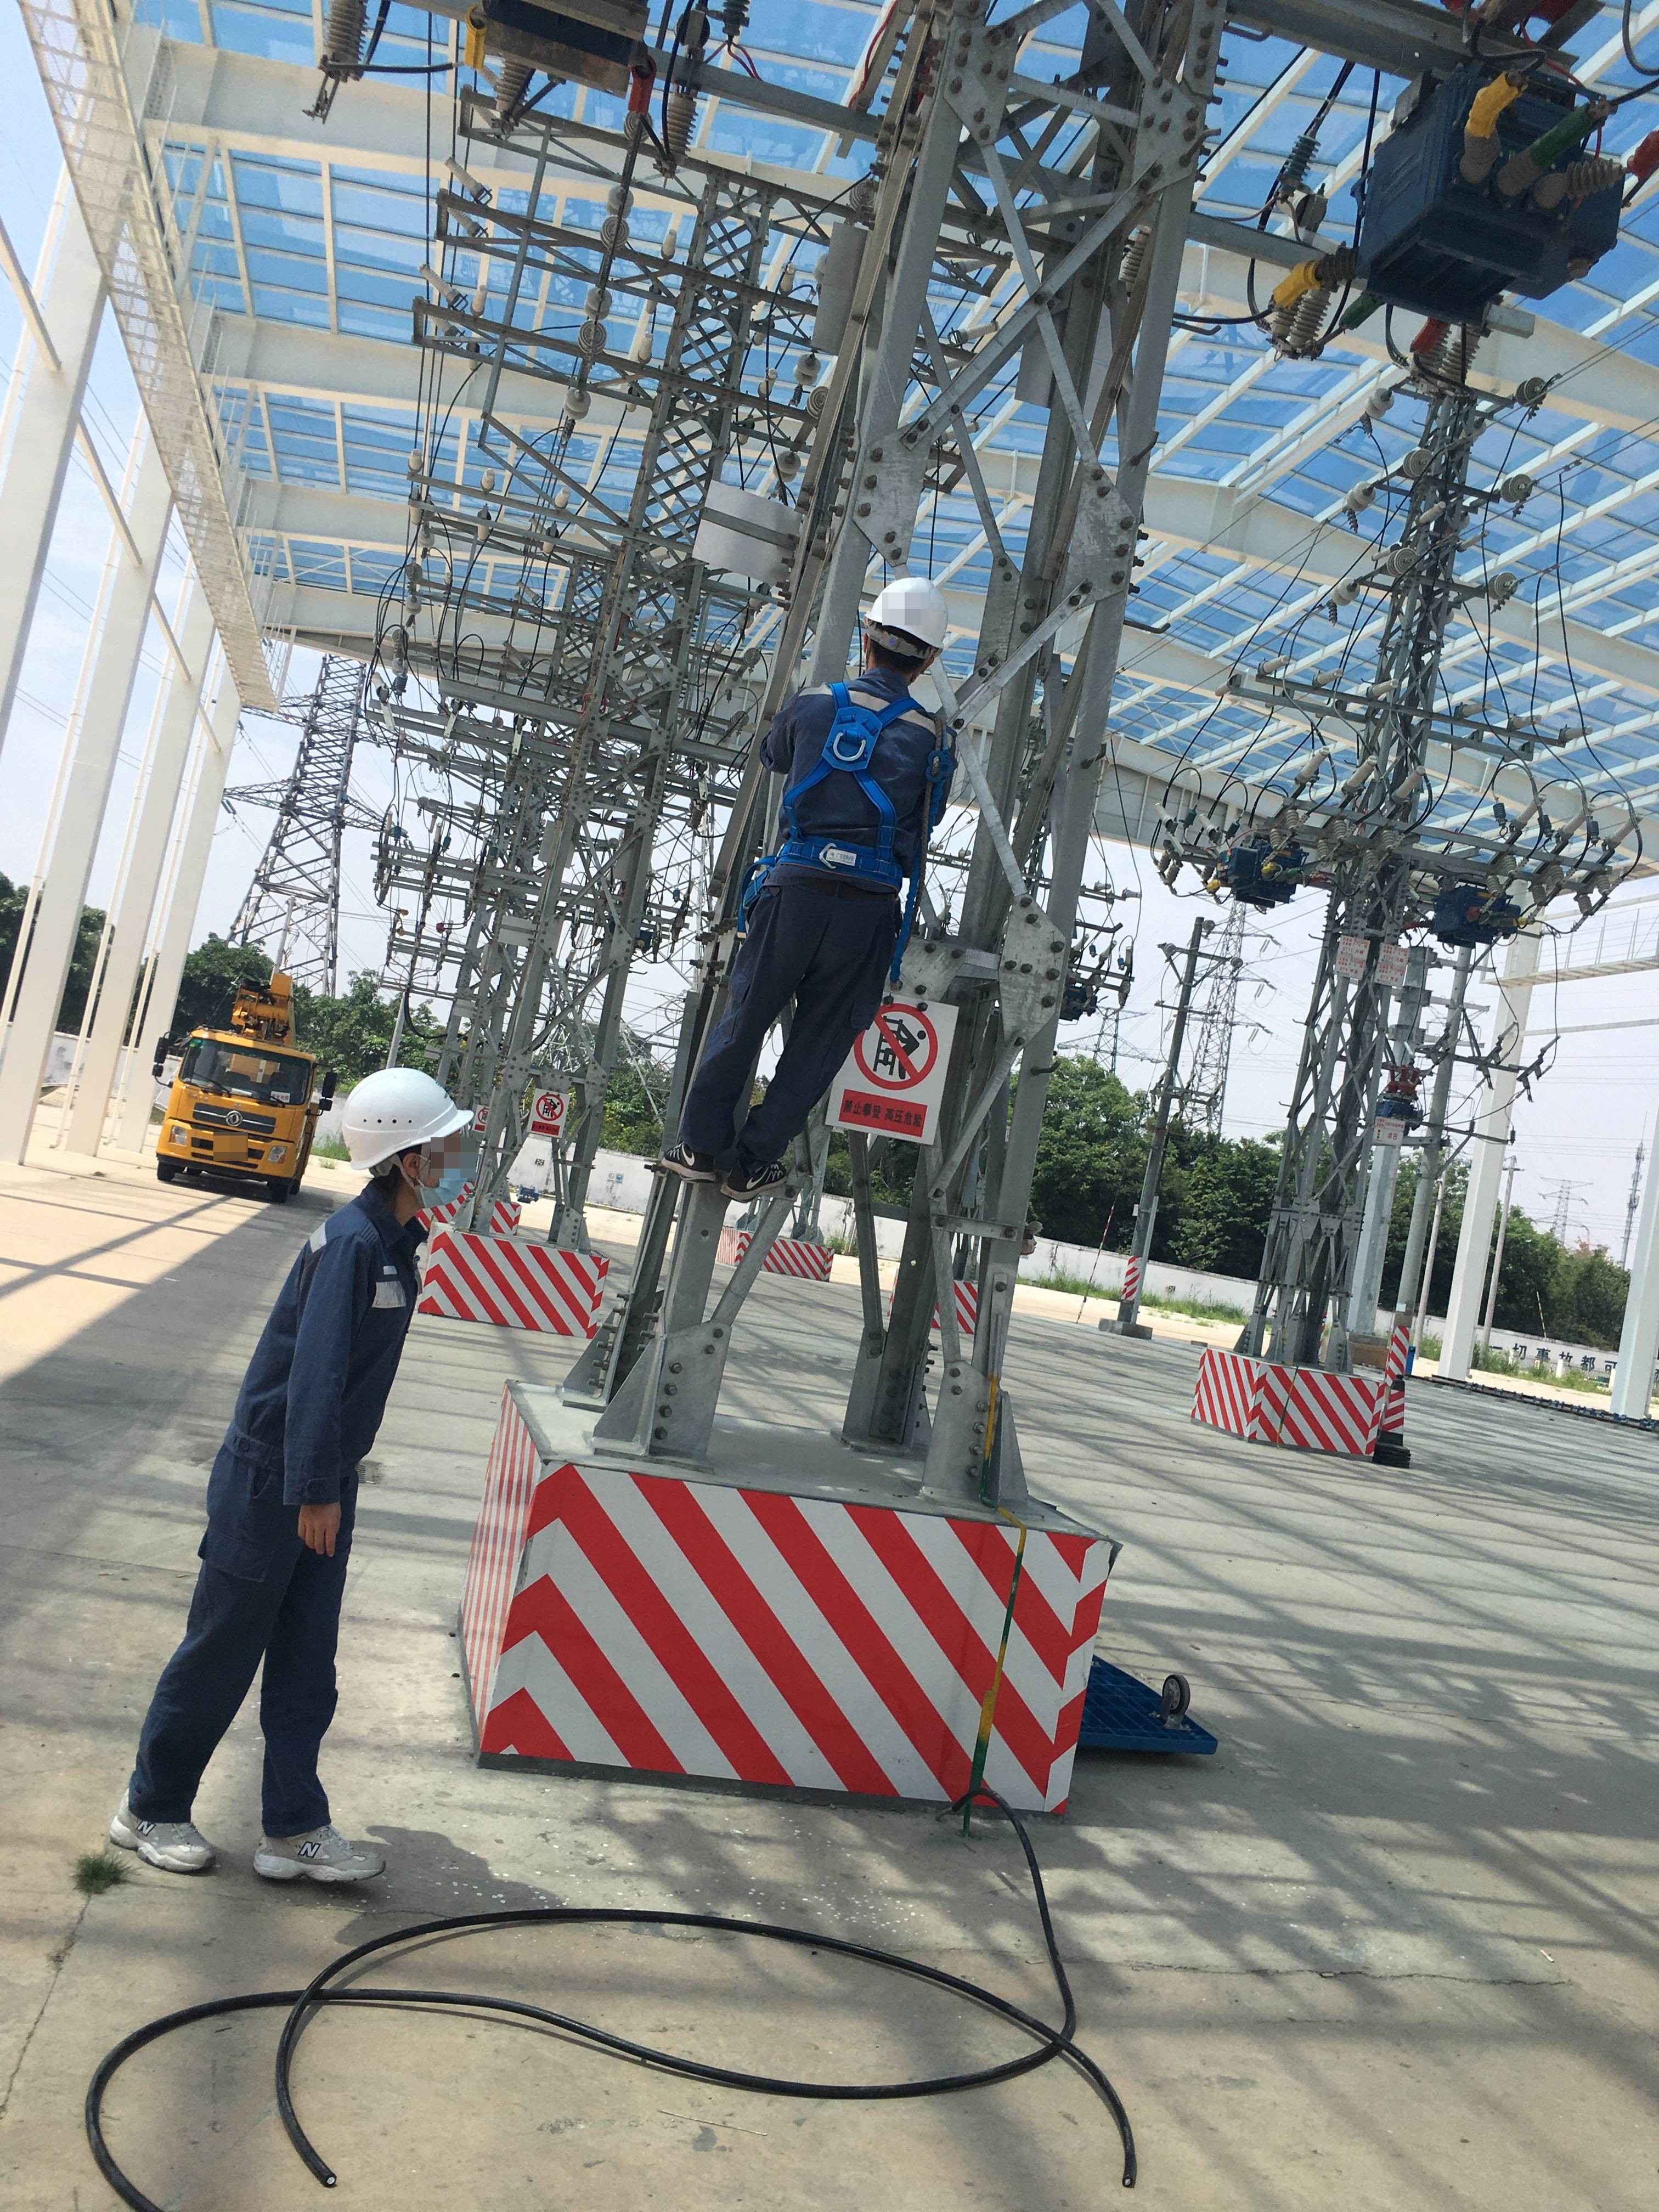downsuit: (131, 1505, 364, 1832), (681, 895, 911, 1170)
upsuit: (221, 1202, 429, 1505), (762, 679, 950, 862)
